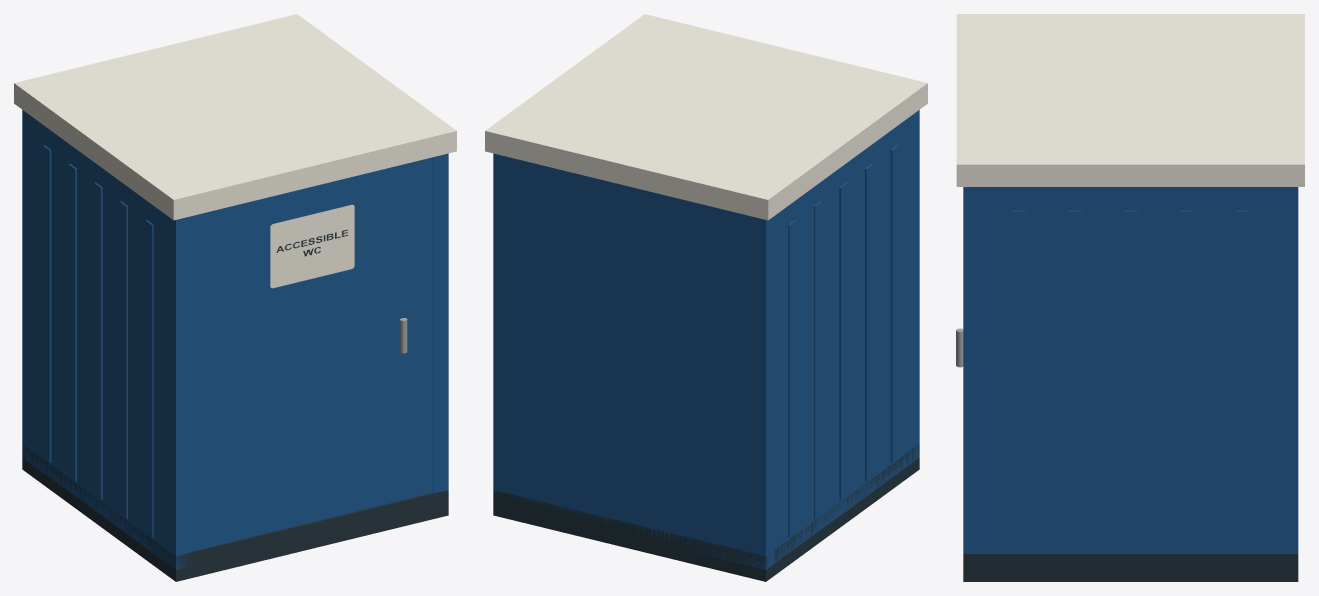
File: scendance-plan-accessible-portable-toilet.glb
The picture shows the model from 3 angles, left to right: view 1: azimuth 30°, elevation 25°; view 2: azimuth 150°, elevation 25°; view 3: azimuth 270°, elevation 25°; orthographic projection. The views are drawn at different scales.
Bounding box in the file's own units: 1.74 × 2.26 × 1.7.
Materials: 5 (1 with a texture image).
